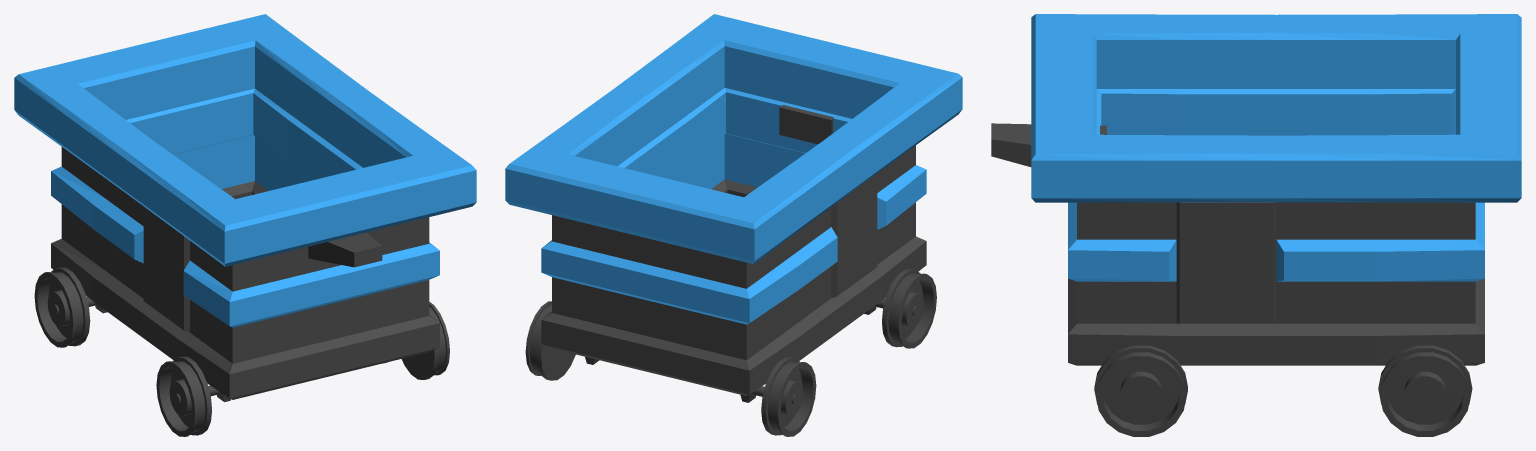
Rendered from Model_Cart.FBX.
3 views of the same model, side by side, from view 1: azimuth 30°, elevation 25°; view 2: azimuth 150°, elevation 25°; view 3: azimuth 270°, elevation 25° (orthographic). The views are drawn at different scales.
Parts seen in each view (by area): view 1: Cart_Body, Cart_Weel_rear, Cart_Wheel_front; view 2: Cart_Body, Cart_Wheel_front, Cart_Weel_rear; view 3: Cart_Body, Cart_Wheel_front, Cart_Weel_rear.
Part boxes in pixels (x1,y1,x2,y2): Cart_Body: (14, 14, 476, 402); Cart_Weel_rear: (156, 302, 449, 436); Cart_Wheel_front: (34, 267, 97, 347); Cart_Body: (505, 14, 962, 402); Cart_Wheel_front: (525, 301, 816, 436); Cart_Weel_rear: (874, 269, 936, 348); Cart_Body: (991, 14, 1521, 365); Cart_Wheel_front: (1378, 345, 1472, 436); Cart_Weel_rear: (1094, 345, 1187, 436).
Bounding box in the file's own units: 160 × 145 × 247.
